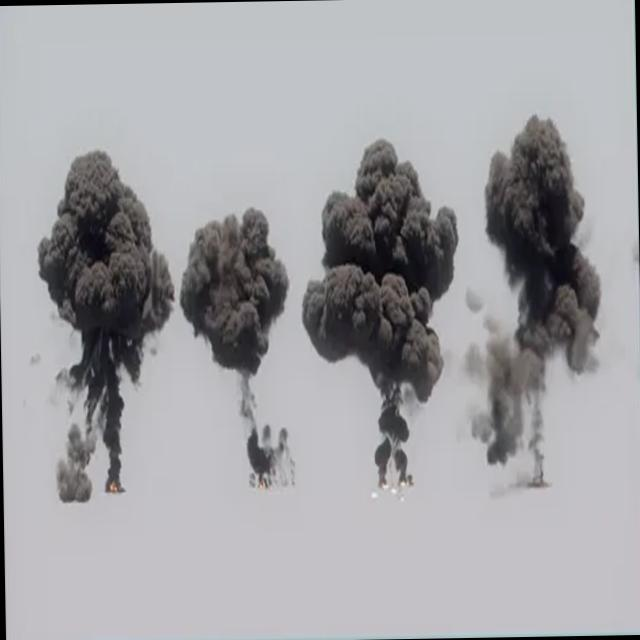Smoke: (301, 138, 464, 502), (463, 114, 605, 491), (34, 146, 178, 503), (178, 144, 298, 492)
